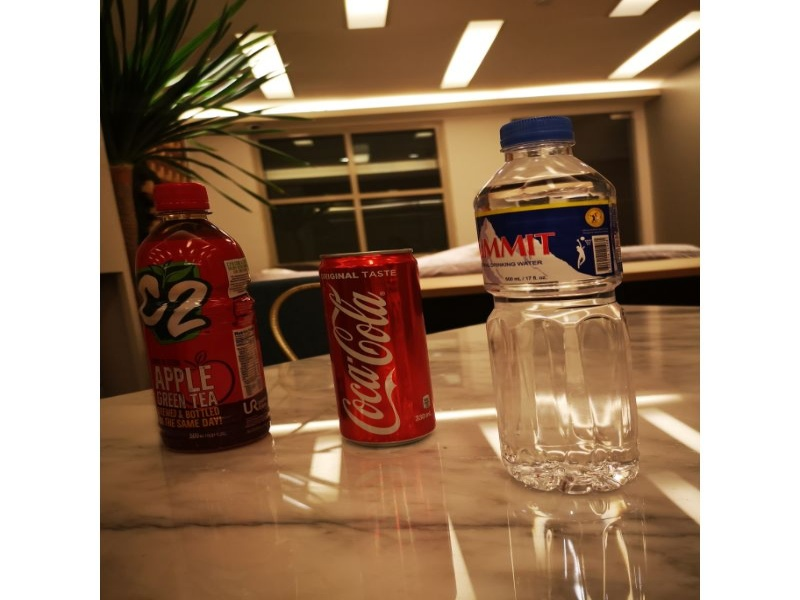PET #1: (476, 118, 648, 493), (133, 177, 276, 454)
